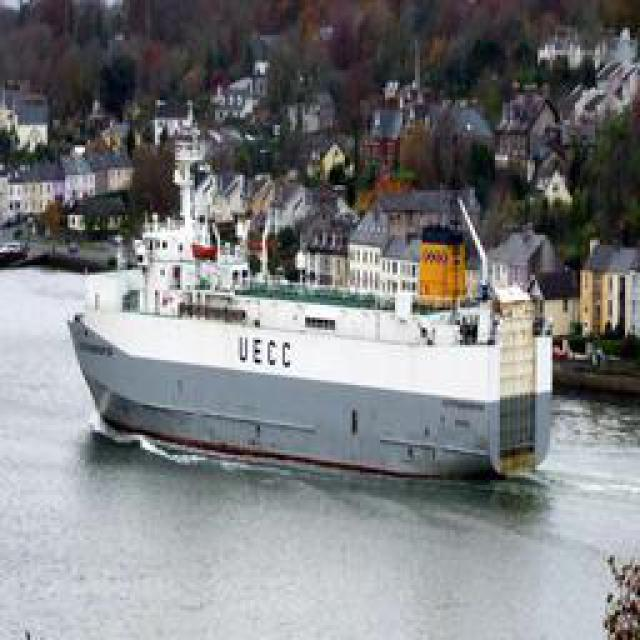Ship: (67, 212, 567, 492)
